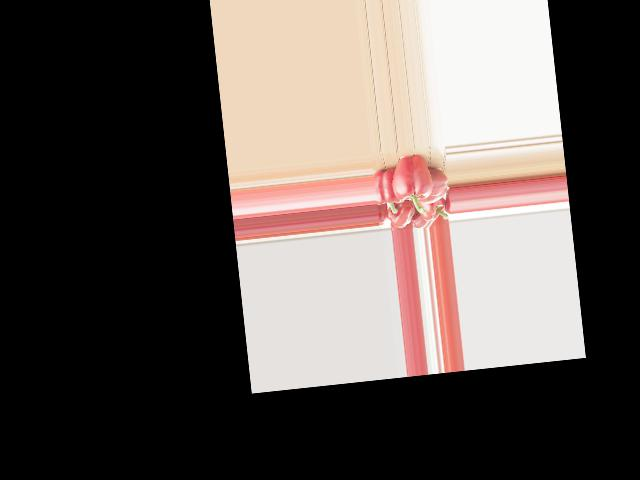bell_pepper: (418, 195, 450, 222)
